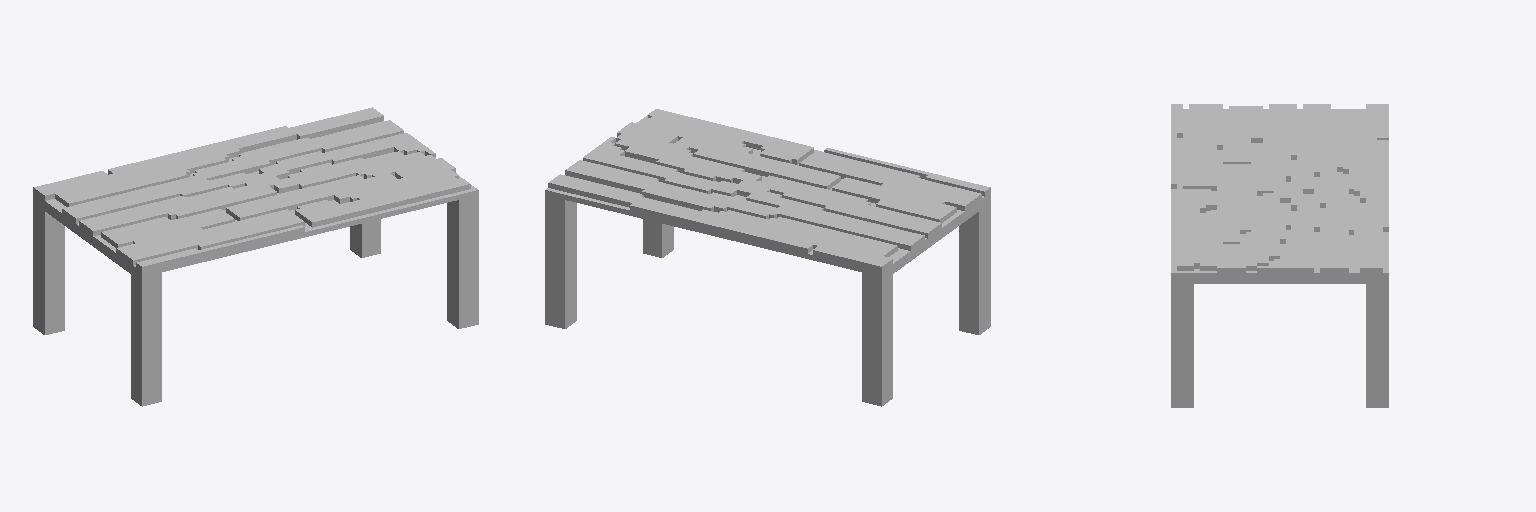
File: table.obj
The picture shows the model from 3 angles: view 1: azimuth 30°, elevation 25°; view 2: azimuth 150°, elevation 25°; view 3: azimuth 270°, elevation 25°; orthographic projection.
Visible parts, largest first — view 1: table; view 2: table; view 3: table.
Boxes of the visible parts, x1=… form: table: x1=33, y1=107, x2=478, y2=406; table: x1=545, y1=109, x2=990, y2=406; table: x1=1171, y1=104, x2=1388, y2=407.
Bounding box in the file's own units: 68 × 27 × 38.